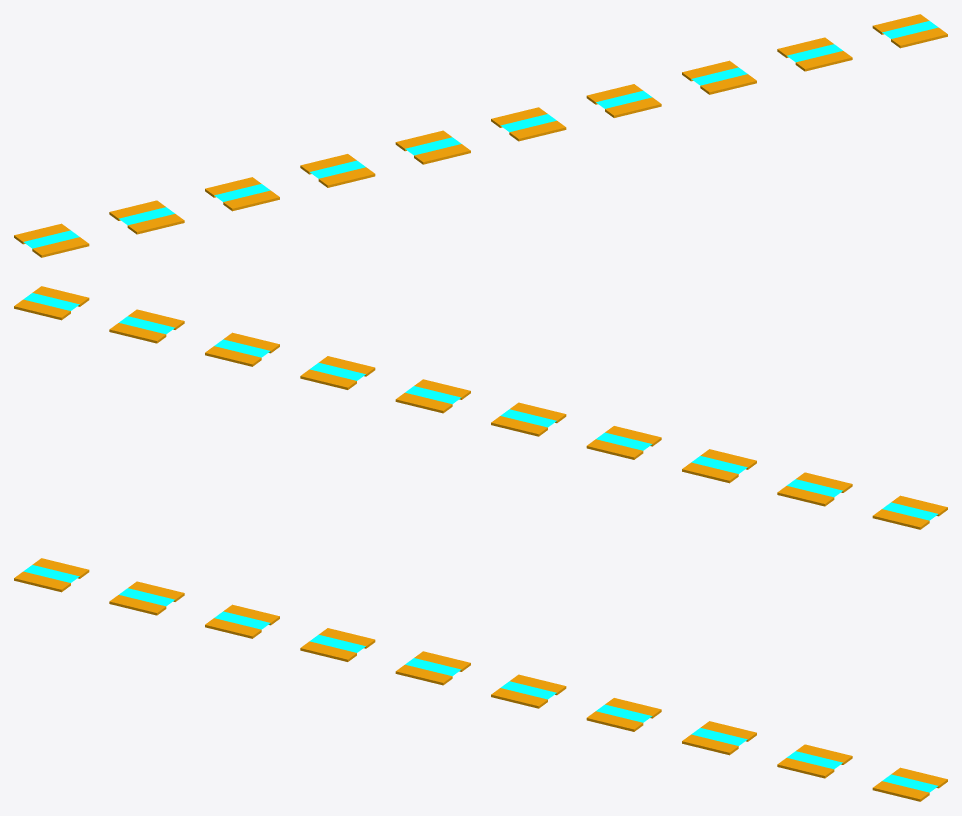
Rendered from upsidedownpad.glb.
The picture shows the model from 3 angles, top to bottom: view 1: azimuth 30°, elevation 25°; view 2: azimuth 150°, elevation 25°; view 3: azimuth 330°, elevation 25°; orthographic projection.
Parts seen in each view (by area): view 1: UpsidedownPlatform1; view 2: UpsidedownPlatform1; view 3: UpsidedownPlatform1.
Boxes of the visible parts, x1,y1,x2,y2 form: UpsidedownPlatform1: (14, 14, 947, 257); UpsidedownPlatform1: (14, 286, 947, 529); UpsidedownPlatform1: (14, 558, 947, 801).
Size of what is drawn, in the model's own units: 57 by 0.1501 by 3.
